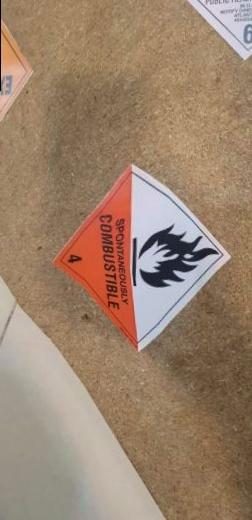spontaneously-combustible: (49, 167, 232, 358)
